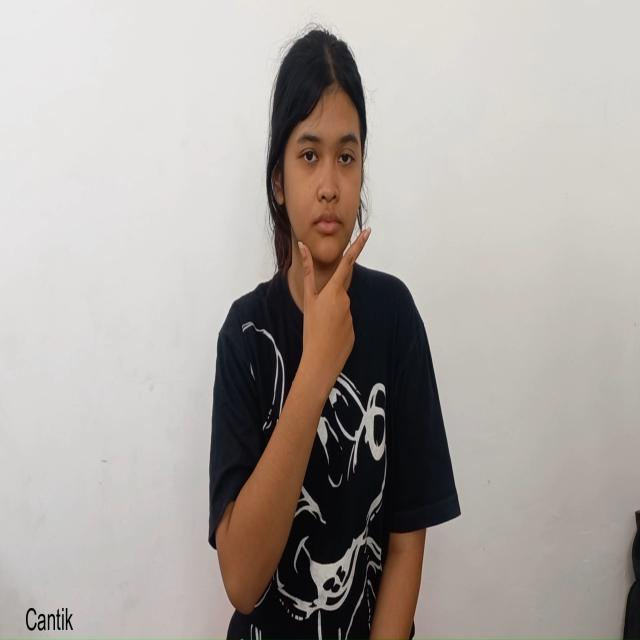Cantik -BISINDO-: (270, 24, 372, 410)
